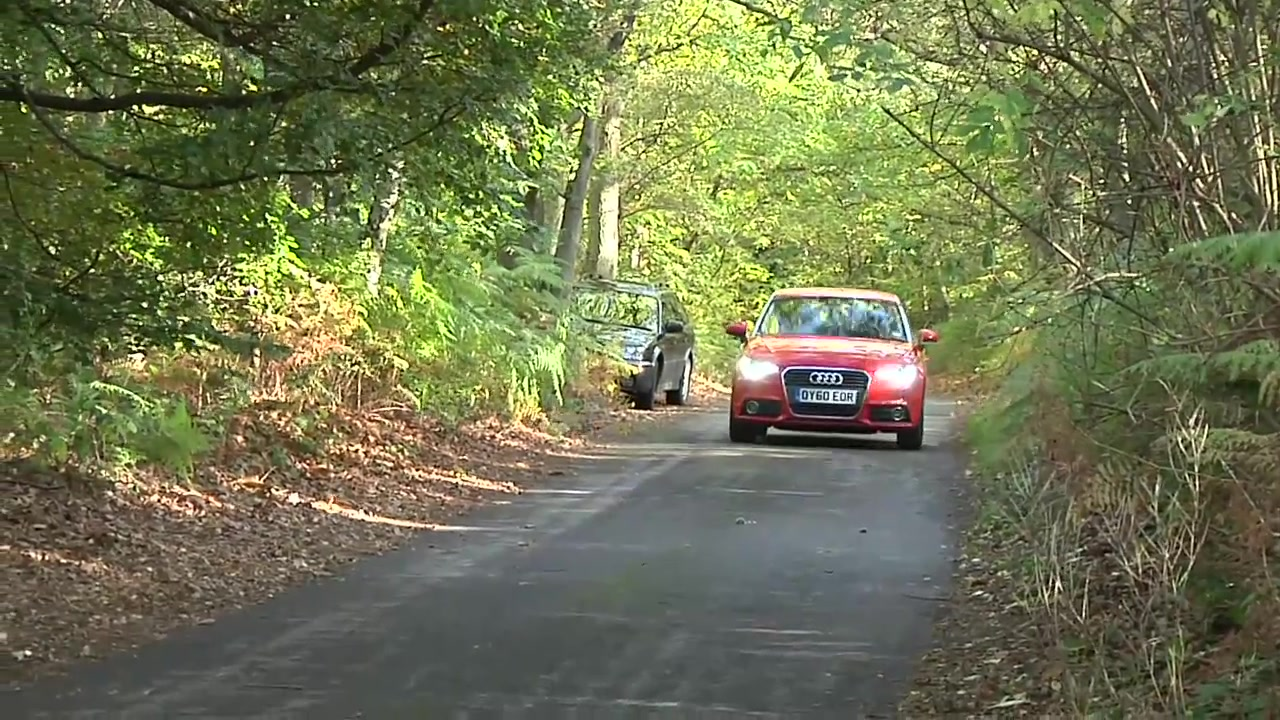car: (722, 283, 938, 450)
